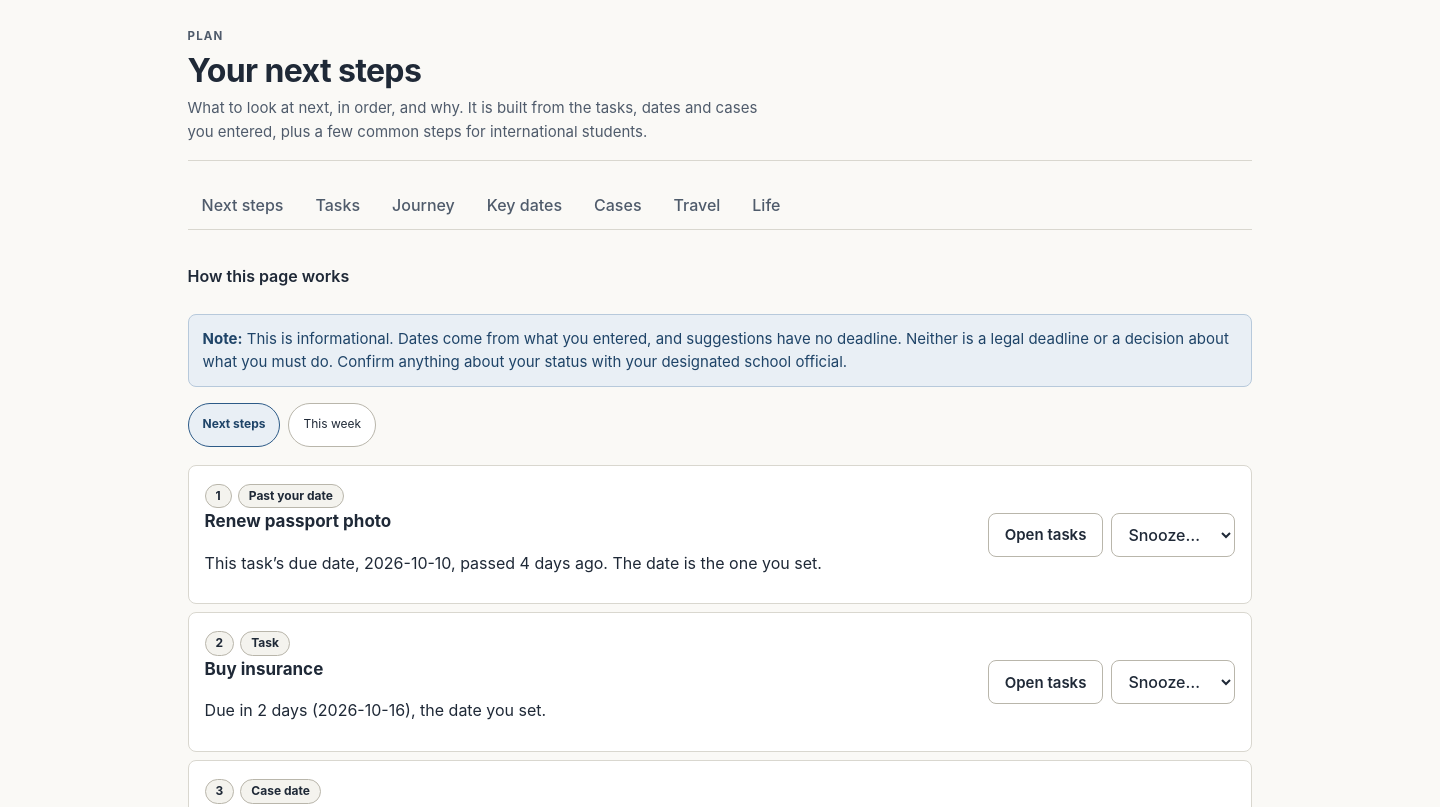
Test: NextStepsPage › snoozes an item, lists it as snoozed, and shows it again
Select "3 days" in the dropdown named "Snooze: Renew passport photo" at (1173, 535), box [1111,513,1235,557]
(page scrolled)
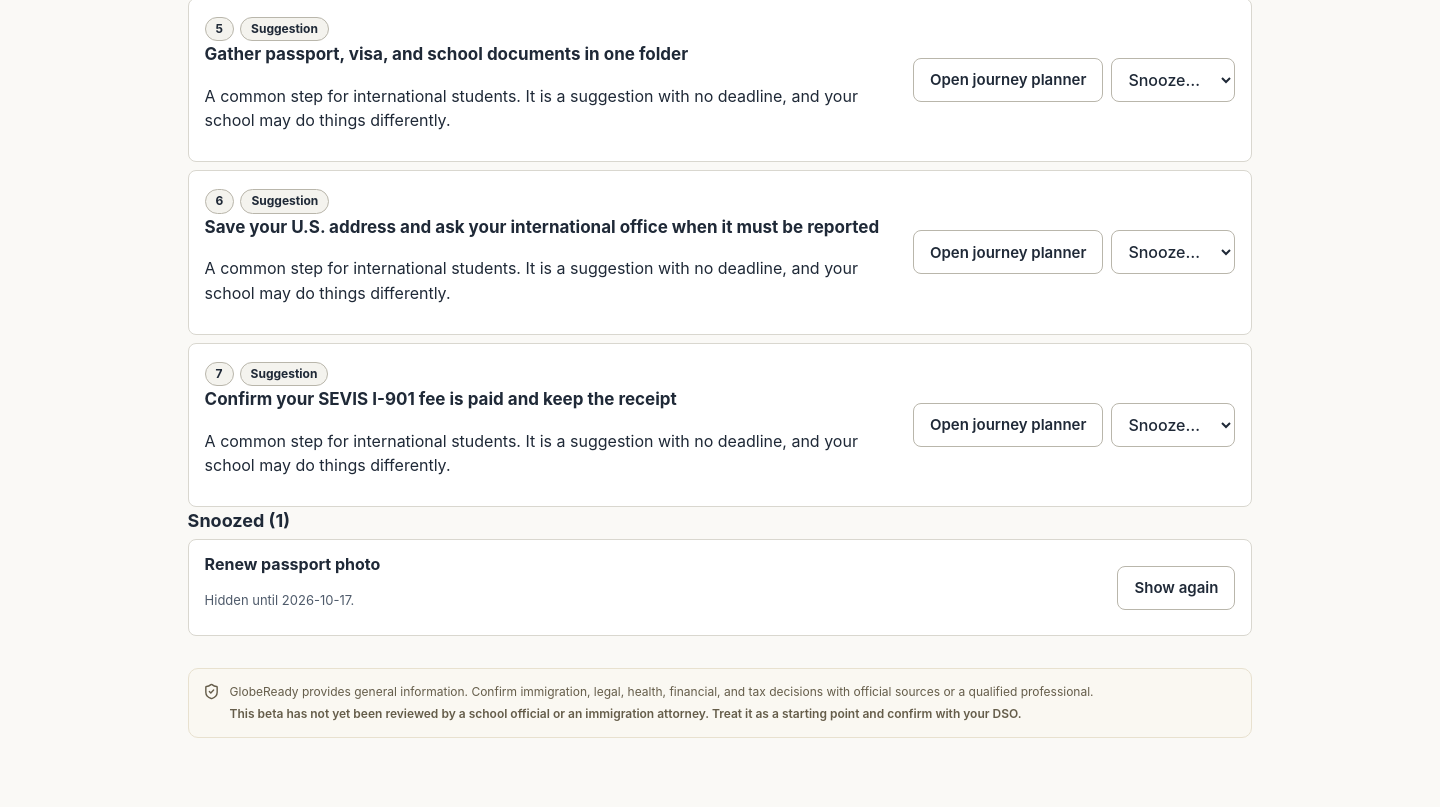
Result: the heading "Snoozed (1)" is shown at [188,510,290,531]
Result: the text "Hidden until 2026-10-17." is shown at [205,592,354,608]
Click the button with aria-label "Show again: Renew passport photo" at (1176, 588), box [1118,566,1235,610]
(page scrolled)
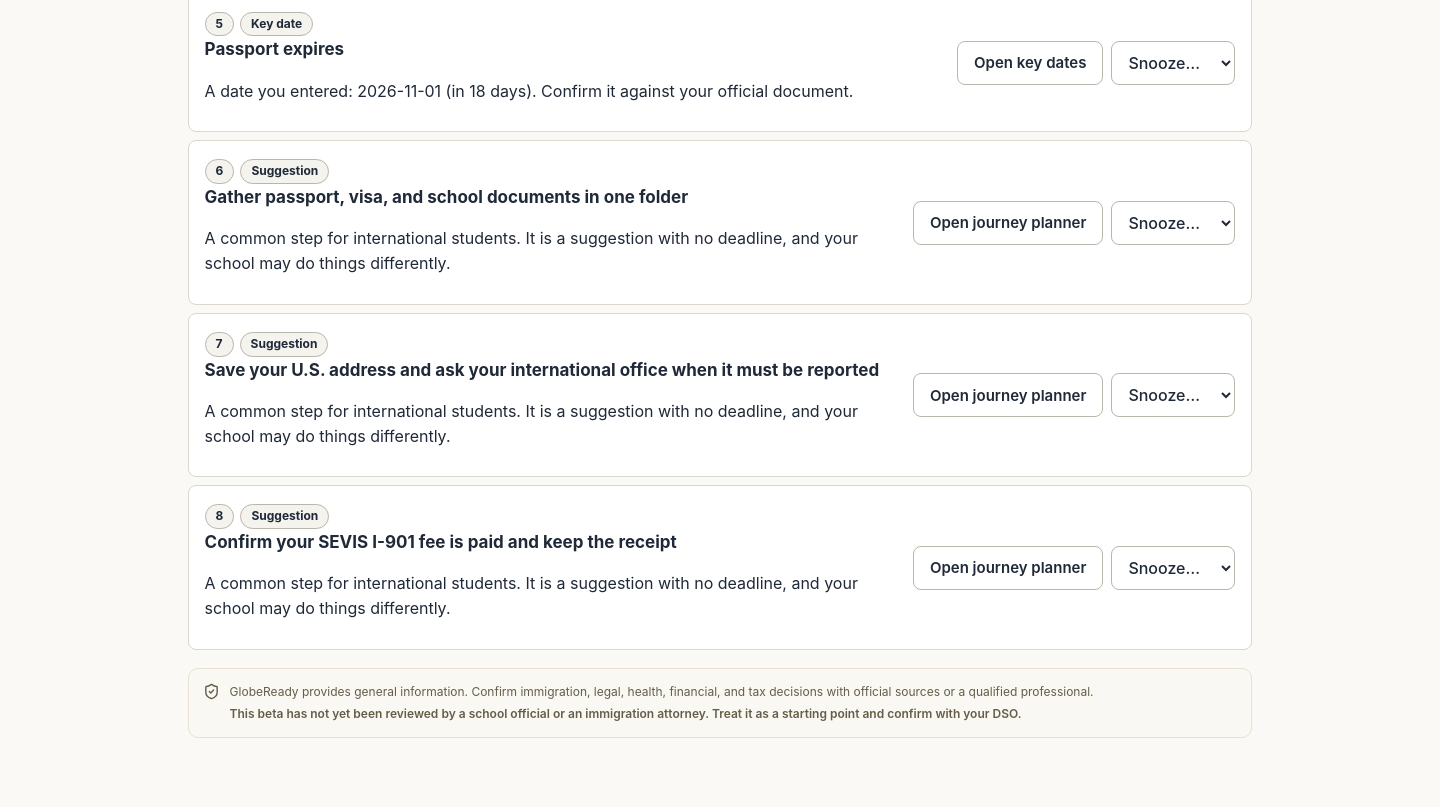
Result: the heading "Snoozed" is gone
